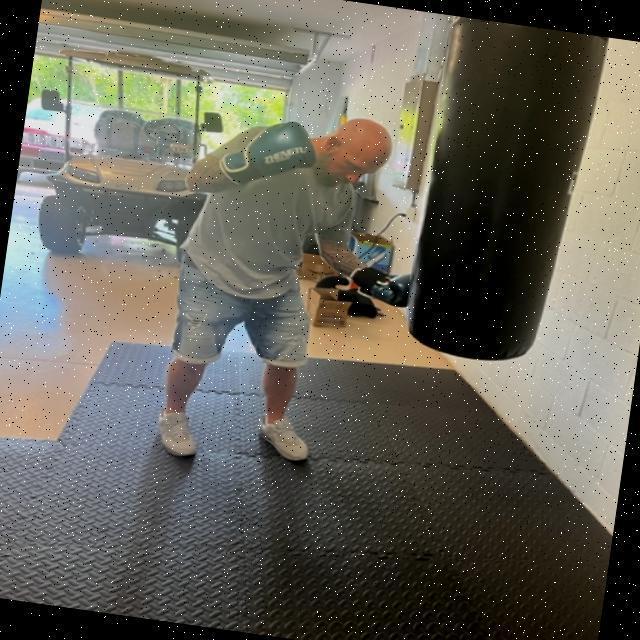uppercut: (184, 86, 491, 343)
